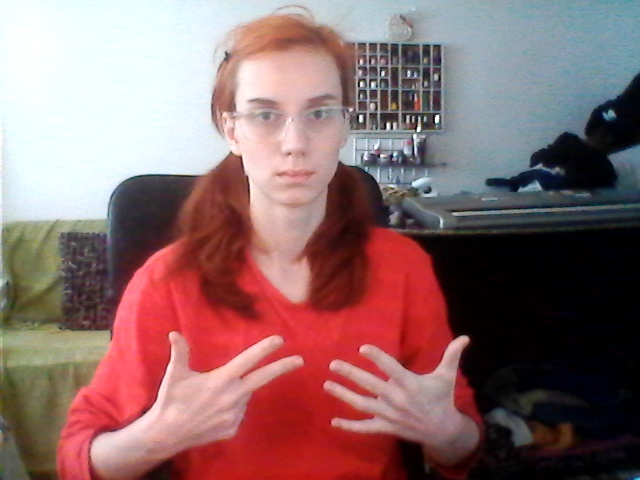osem: (160, 320, 485, 450)
